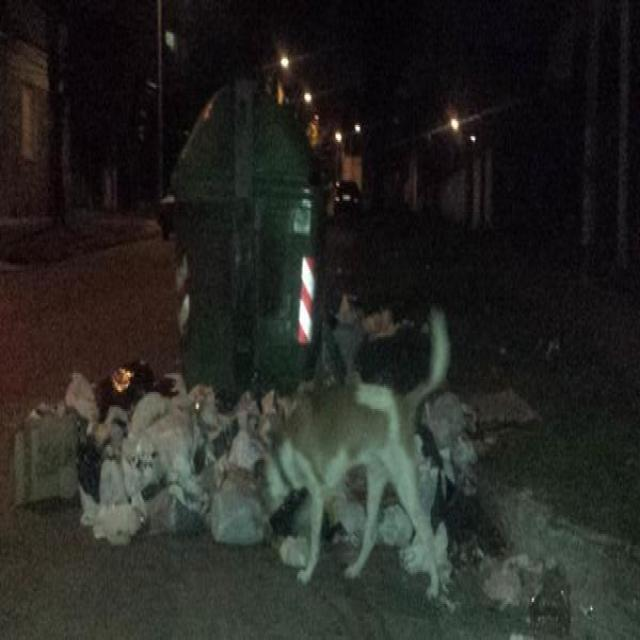garbage: (12, 356, 231, 540), (426, 409, 524, 570), (321, 284, 387, 383), (236, 380, 290, 414)
